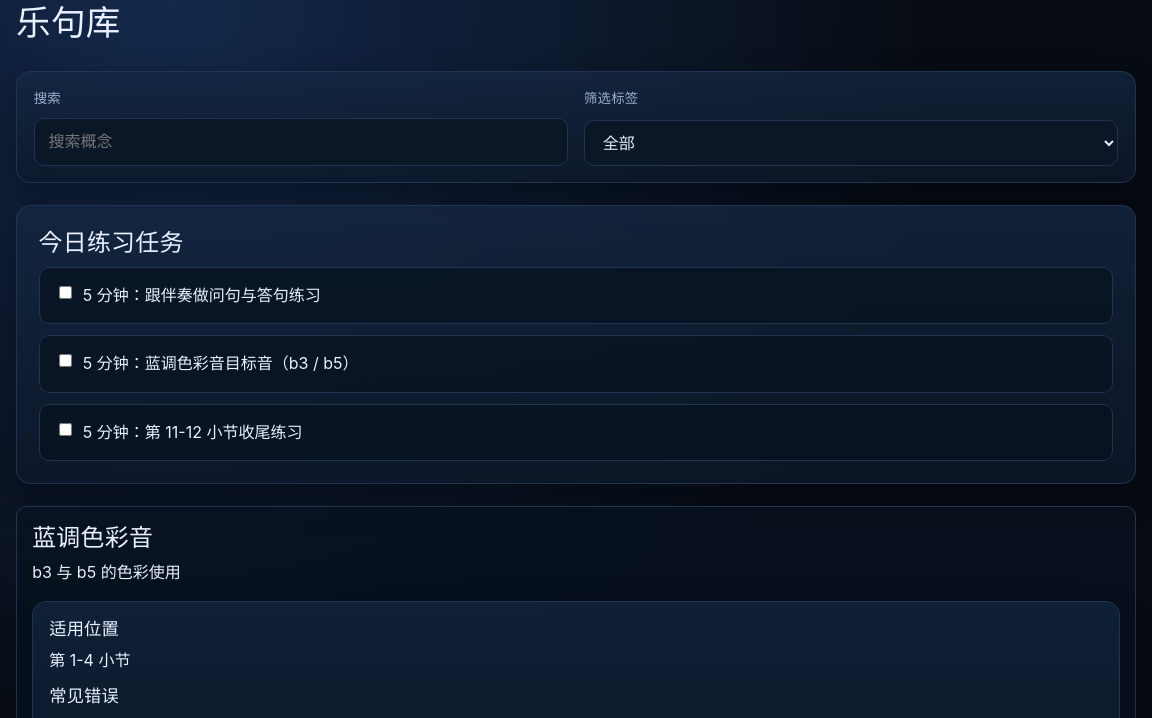
Test case: KnowledgePage › filters cards by query and tag
The image size is (1152, 718).
In the field named "搜索乐句知识": (301, 142) x1=34 y1=118 x2=568 y2=166, type "蓝调色彩音"
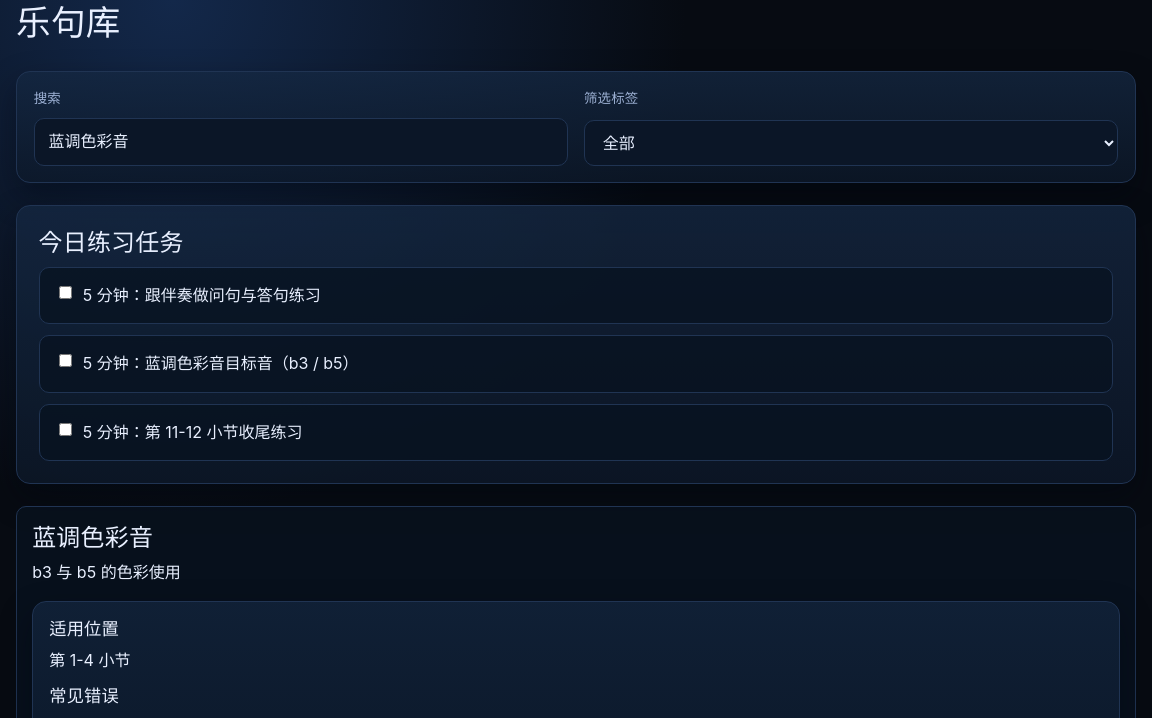
Expected: the heading "蓝调色彩音" is shown, x1=32 y1=523 x2=153 y2=552
Select "收尾" in the dropdown labelled "筛选标签": (851, 143) x1=584 y1=120 x2=1118 y2=166
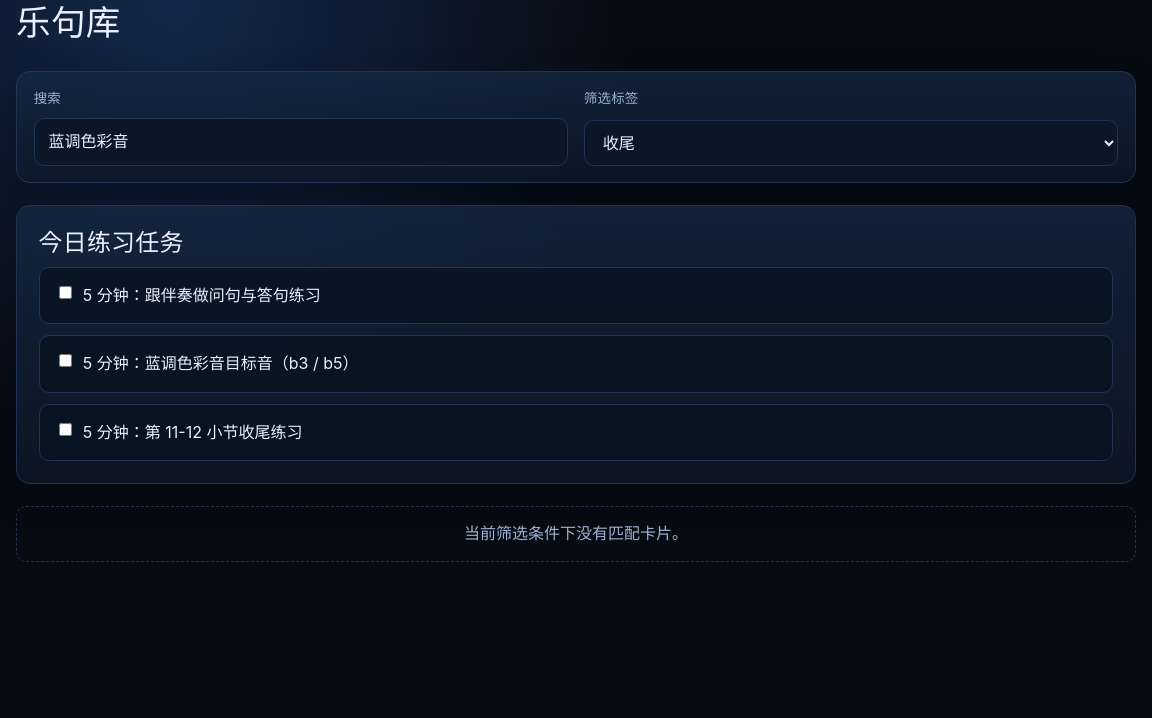
Expected: the text "当前筛选条件下没有匹配卡片。" is shown, x1=16 y1=506 x2=1136 y2=562
